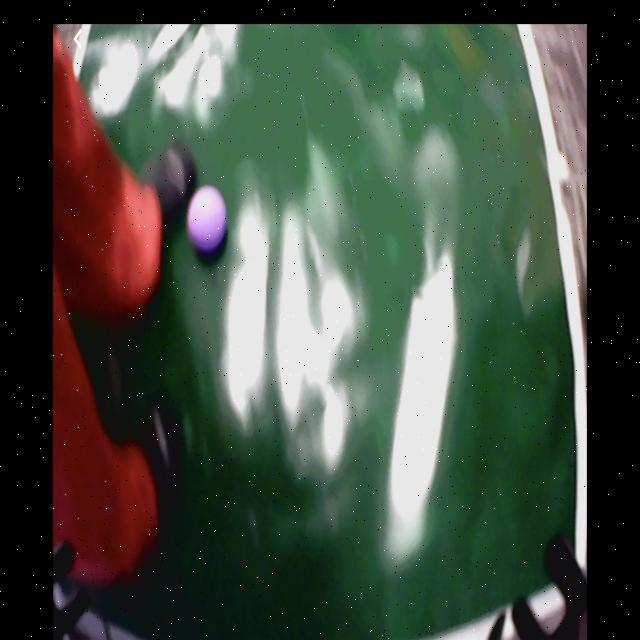ball: (188, 186, 228, 252)
